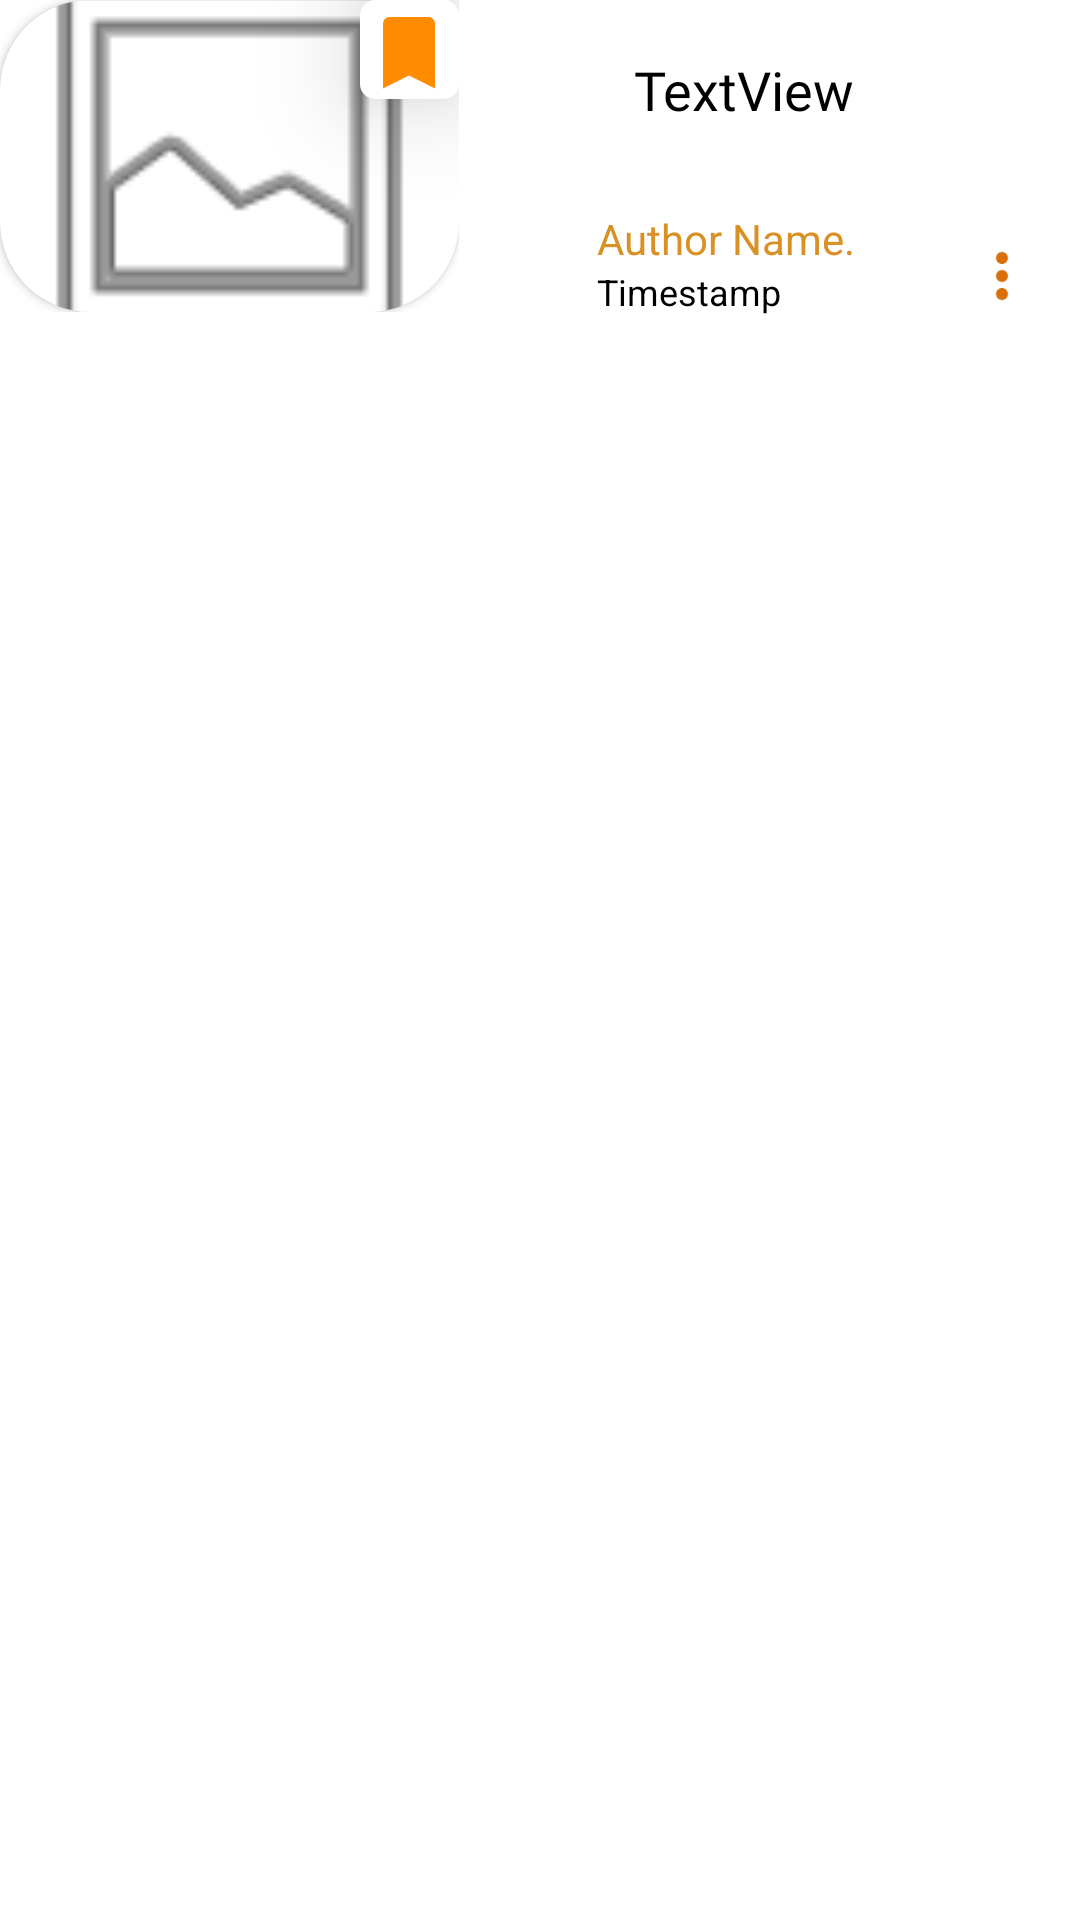

Named icons in this screenshot (1080 × 1920) and their bounding boxes, detection(x1, y1, x2, y2):
vert: detection(995, 251, 1009, 301)
